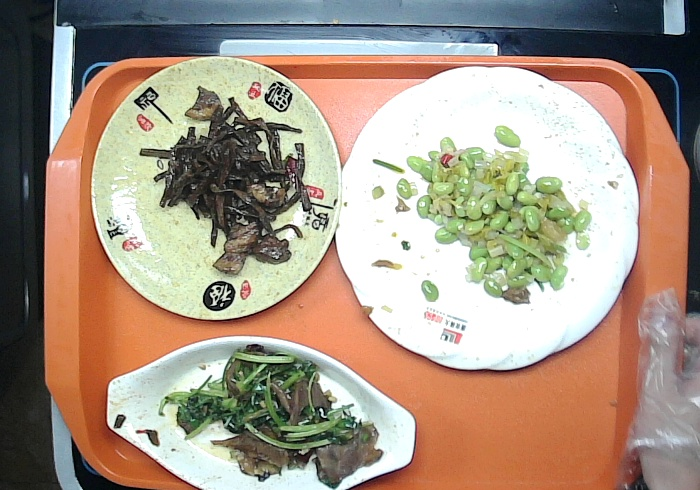NLDX-Bai_Zhe_Yuan_Pan: (327, 60, 646, 374)
NLDX-Fu_Zi_Yuan_Pan: (81, 52, 352, 327)
NLDX-Yu_Pan: (95, 330, 424, 490)
